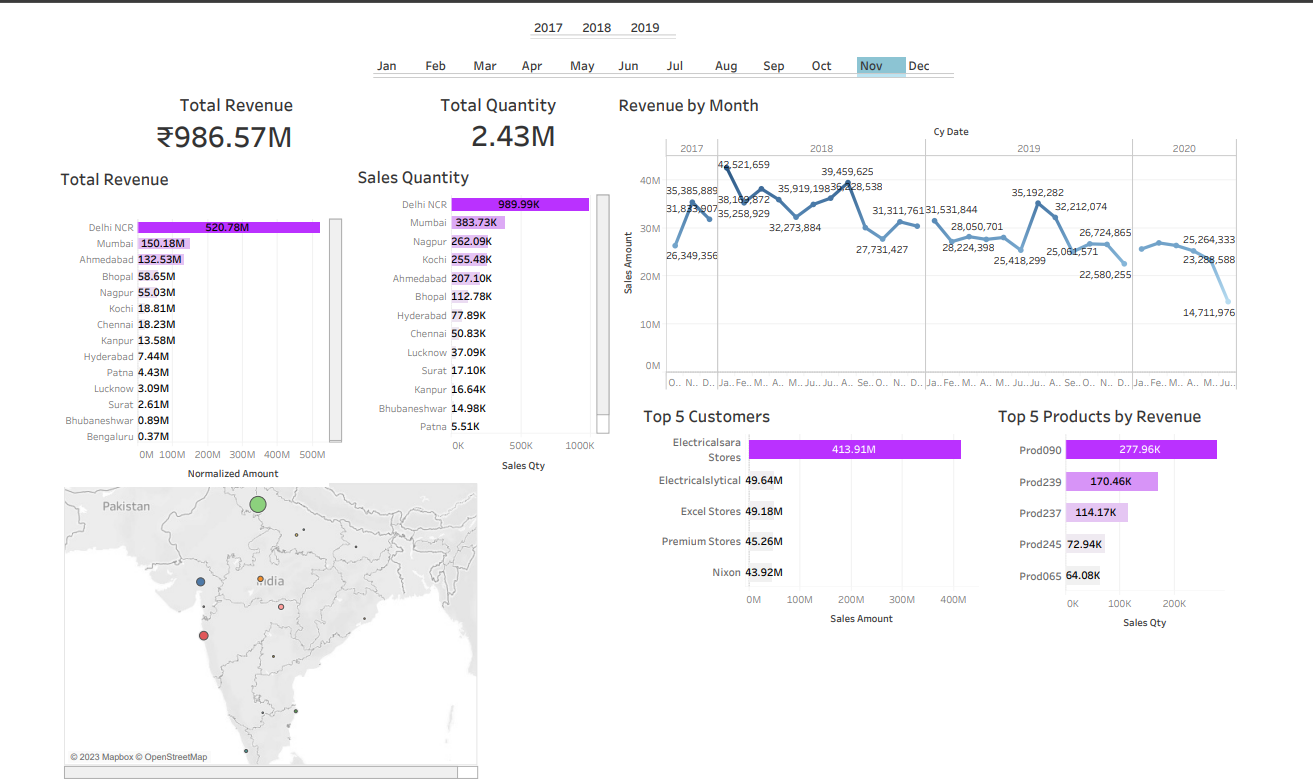

Layout of this report page (visuals, bound fields, positions):
{"tool":"tableau","page":{"name":"Dashboard 1","canvas":[1500,1000],"ordinal":0},"visuals":[{"type":"worksheet","title":"Year","mark":"Automatic","cols":["date"],"box":[594,13,293,33]},{"type":"worksheet","title":"Month","mark":"Automatic","cols":["date"],"box":[399,61,728,39]},{"type":"worksheet","title":"Revenue by Month","mark":"Automatic","rows":["sales_amount"],"cols":["cy_date","cy_date"],"box":[699,100,772,374]},{"type":"worksheet","title":"Display Quantity","mark":"Automatic","box":[470,105,161,90]},{"type":"worksheet","title":"Display Revenue","mark":"Automatic","box":[123,106,193,88]},{"type":"worksheet","title":"Sales Quantity","mark":"Automatic","rows":["markets_name"],"cols":["sales_qty"],"box":[375,189,334,394]},{"type":"worksheet","title":"Total Revenue","mark":"Automatic","rows":["markets_name"],"cols":["Calculation_683984216546287617"],"box":[6,191,356,403]},{"type":"worksheet","title":"Top 5 Customers","mark":"Automatic","rows":["custmer_name"],"cols":["sales_amount"],"box":[730,486,451,297]},{"type":"worksheet","title":"Top 5 Products by Revenue","mark":"Automatic","rows":["product_code (products)"],"cols":["sales_qty"],"box":[1170,486,307,367]},{"type":"worksheet","title":"Sales Map","mark":"Automatic","box":[15,591,513,398]}]}

Visuals, with their boxes on the page's 1500x1000 design canvas (x1, y1, x2, y2). These are canvas units, not pixel positions in the 1313x781 screenshot, which may show the page scaled, cropped or inside an application window:
"Year" worksheet: <region>594, 13, 887, 46</region>
"Month" worksheet: <region>399, 61, 1127, 100</region>
"Revenue by Month" worksheet: <region>699, 100, 1471, 474</region>
"Display Quantity" worksheet: <region>470, 105, 631, 195</region>
"Display Revenue" worksheet: <region>123, 106, 316, 194</region>
"Sales Quantity" worksheet: <region>375, 189, 709, 583</region>
"Total Revenue" worksheet: <region>6, 191, 362, 594</region>
"Top 5 Customers" worksheet: <region>730, 486, 1181, 783</region>
"Top 5 Products by Revenue" worksheet: <region>1170, 486, 1477, 853</region>
"Sales Map" worksheet: <region>15, 591, 528, 989</region>
